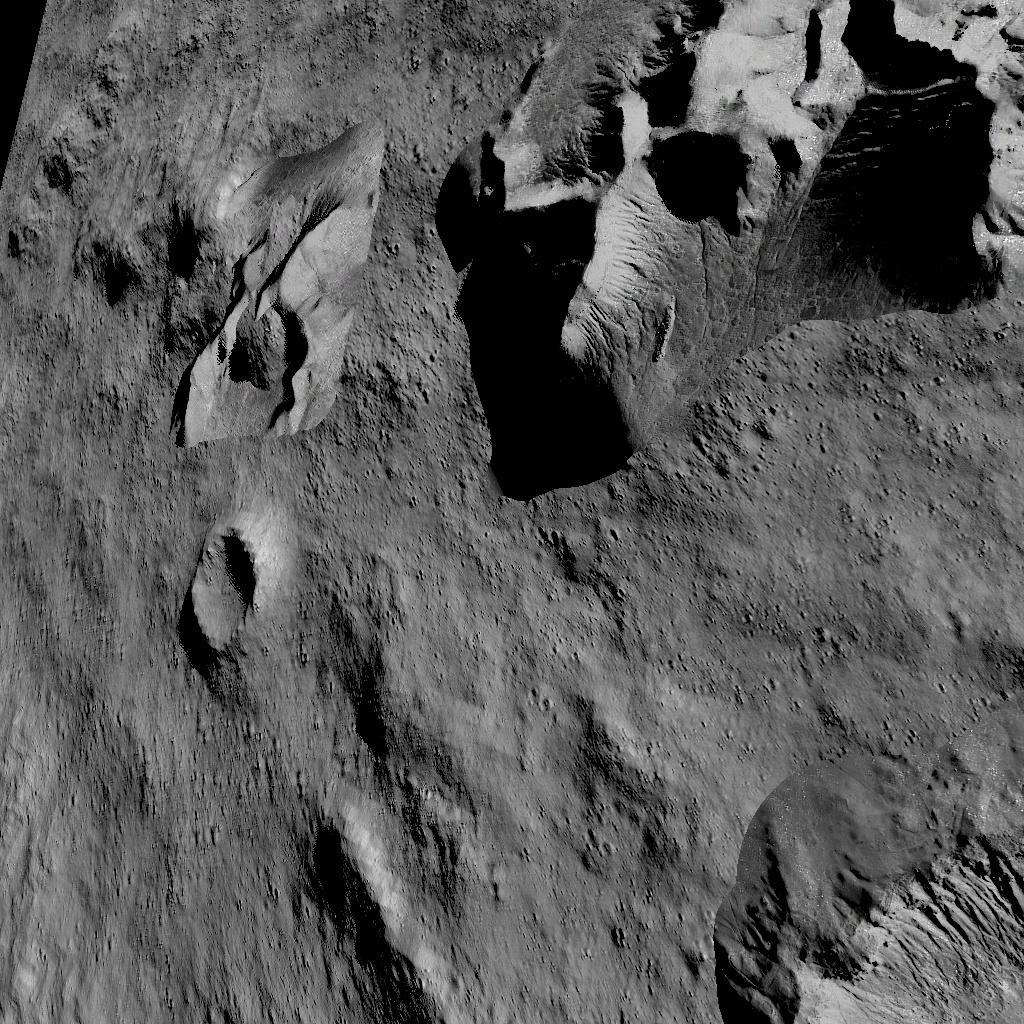Boulders: (439, 0, 1024, 495), (151, 116, 405, 450)
Crater: (739, 827, 1024, 1024), (187, 518, 285, 660)
Plan surface: (414, 508, 1024, 814), (1, 668, 314, 1024), (461, 828, 727, 1024), (0, 464, 178, 660), (151, 2, 429, 106)
